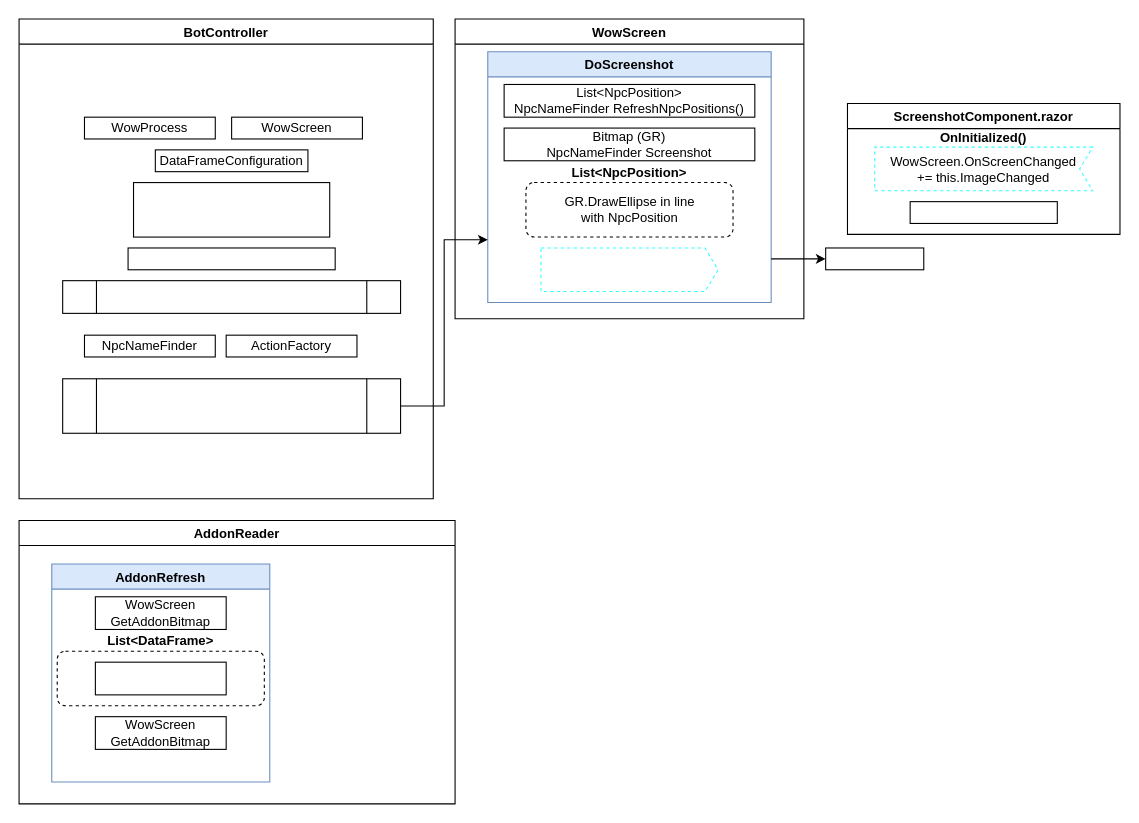
Image size: 1139x823. Some labels were removed from this diagram. The shapes that lost their labels are listed below. From the top down, each one's centre as x and y in pixels, then its label:
At pixel 231 209: "List<DataFrame> DataFrameConfiguration LoadConfiguration()".
At pixel 983 212: "ImageChanged(o,args)".
At pixel 231 258: "AddonReader(List<DataFrame>)".
At pixel 629 269: "OnScreenChanged.invoke （Screenshot.base64）".
At pixel 874 258: "Image".
At pixel 231 296: "AddonRefreshThread for : AddonReader.AddonRefresh()".
At pixel 231 405: "ScreenshotRefreshThread for : WowScreen DoScreenshot(NpcNameFinder)".
At pixel 160 678: "Color[] = BitMap".
